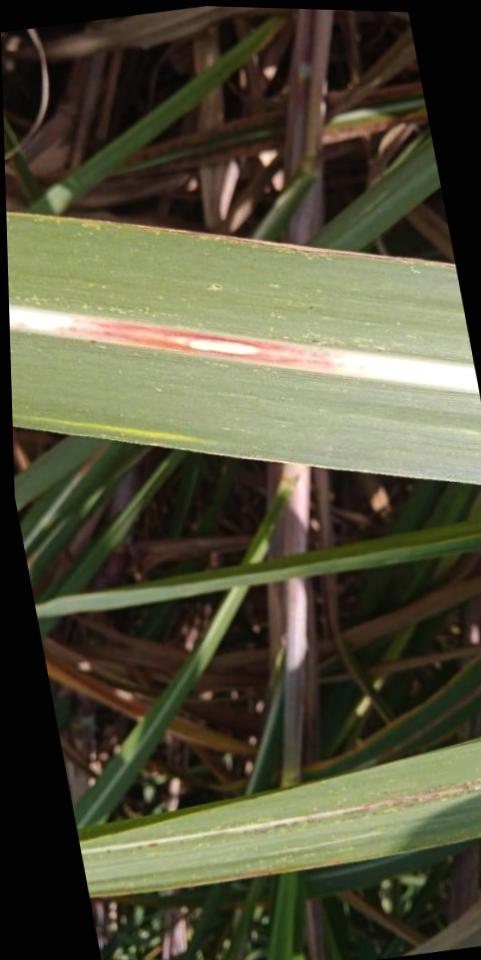RedRot: (53, 319, 342, 374)
